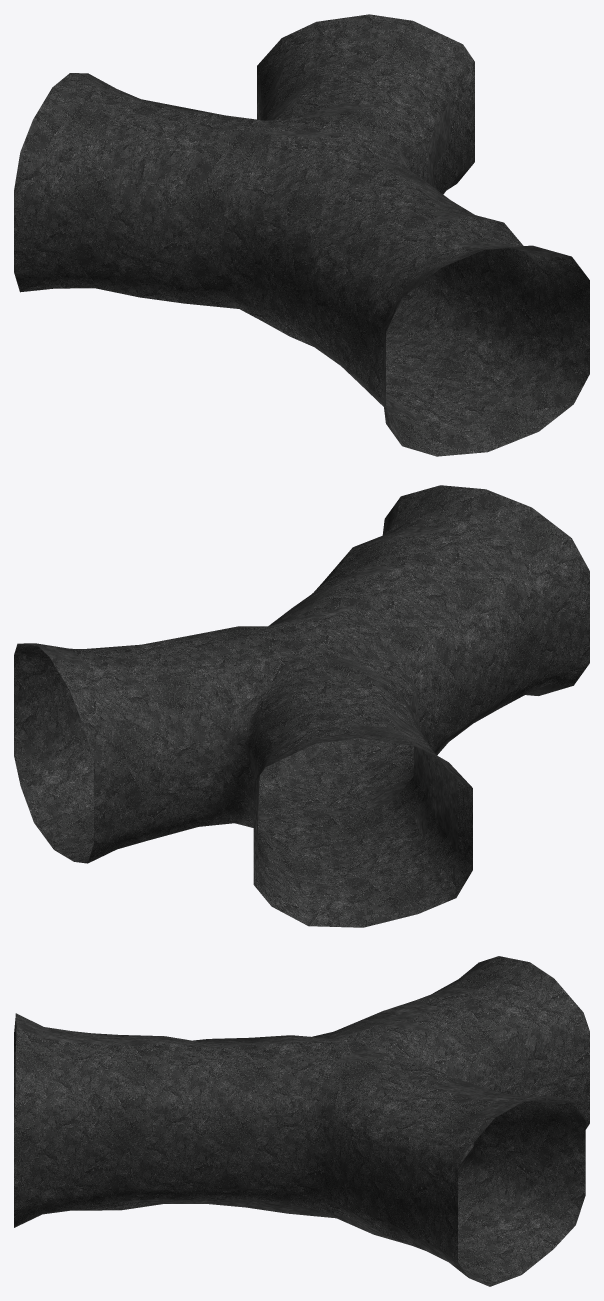
Rendered from CaveYIntersection.glb.
3 views of the same model, one above another, from view 1: azimuth 30°, elevation 25°; view 2: azimuth 150°, elevation 25°; view 3: azimuth 270°, elevation 25° (orthographic). The views are drawn at different scales.
Visible parts, largest first — view 1: Cube.108; view 2: Cube.108; view 3: Cube.108.
Boxes of the visible parts, x1,y1,x2,y2 form: Cube.108: (14, 14, 589, 456); Cube.108: (14, 485, 589, 927); Cube.108: (14, 956, 589, 1286).
Size of the model in its own units: 18.22 by 7.68 by 21.56.
Materials: 1 (1 with a texture image).
